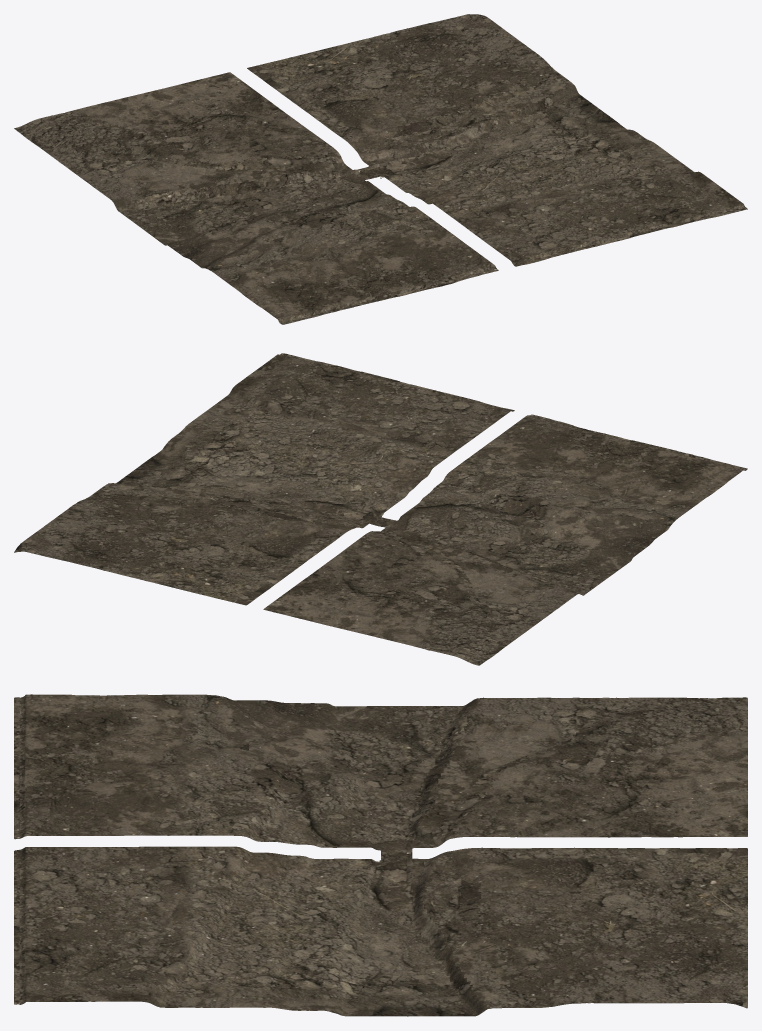
Rendered from Tierra_3.glb.
3 views of the same model, one above another, from view 1: azimuth 30°, elevation 25°; view 2: azimuth 150°, elevation 25°; view 3: azimuth 270°, elevation 25° (orthographic). The views are drawn at different scales.
Visible parts, largest first — view 1: Tierra; view 2: Tierra; view 3: Tierra.
Boxes of the visible parts, x1,y1,x2,y2 form: Tierra: (14, 14, 747, 324); Tierra: (14, 353, 747, 665); Tierra: (14, 694, 747, 1016).
Size of the model in its own units: 451 by 11.94 by 451.
Materials: 1 (1 with a texture image).
